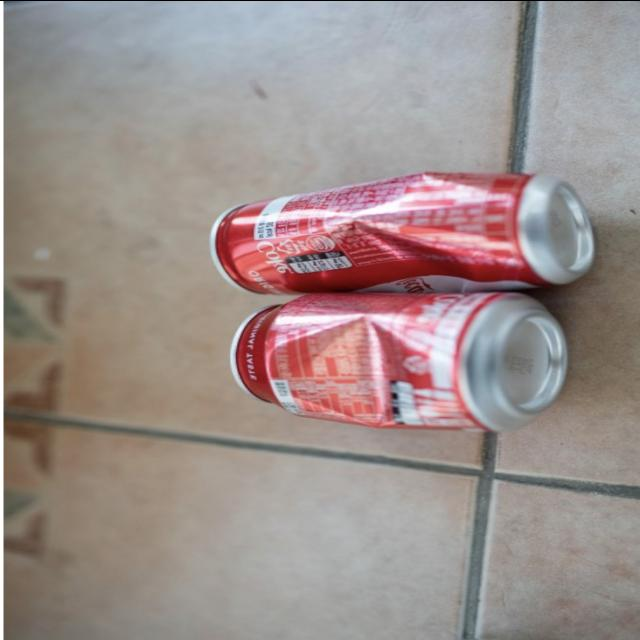can: (192, 158, 606, 312), (205, 294, 580, 434)
